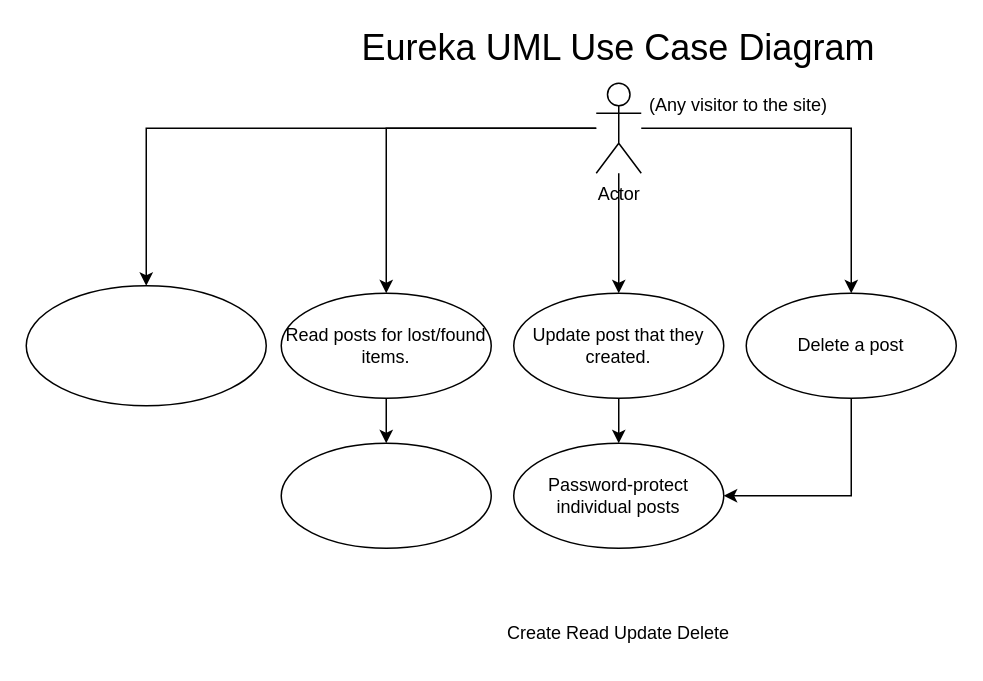
Some shapes in this 983 by 681 pixel diagram are drawn without their labels. The centre of each missing label's shape, as x and y in pixels:
"Create a post for a lost/found item." belongs at point 145,345.
"See posts organised as coordinates on a map." belongs at point 385,495.
